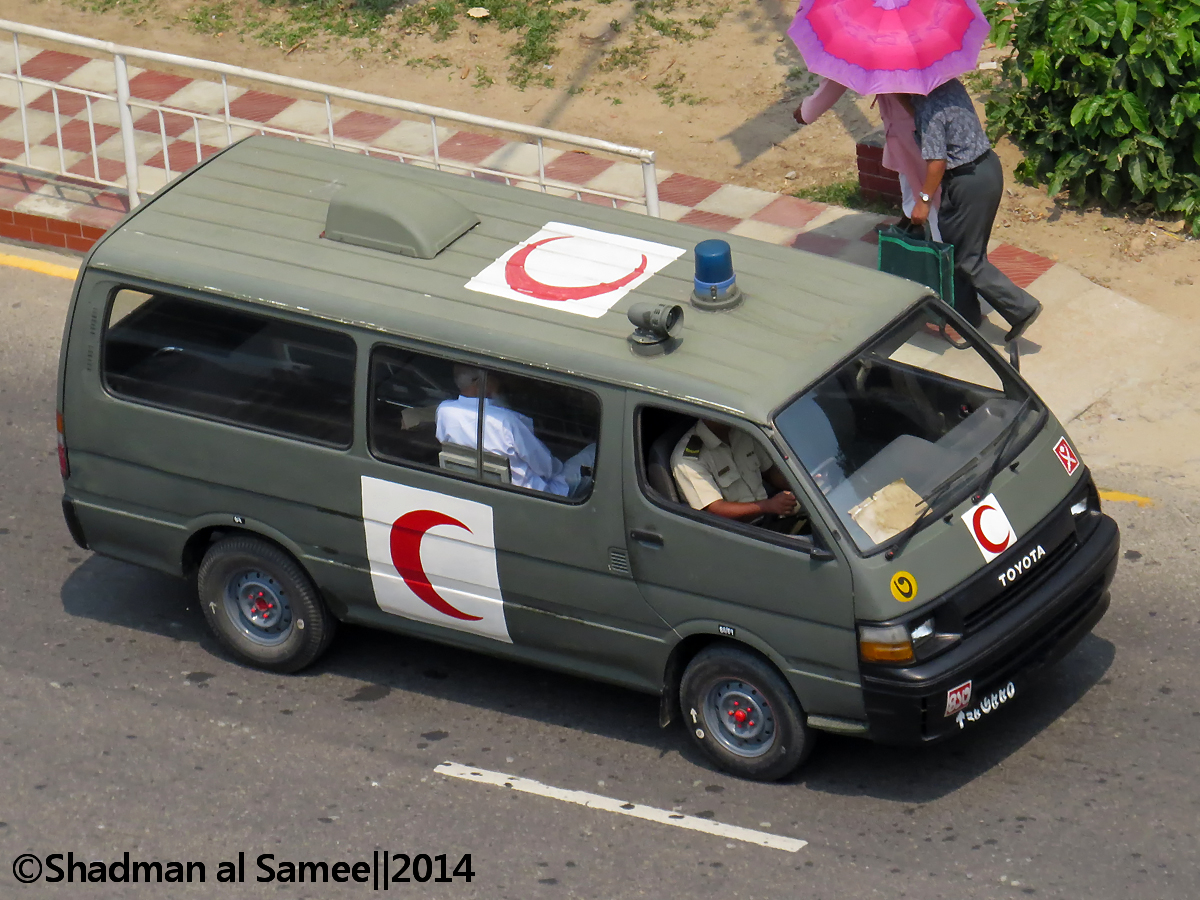Ambulance: (52, 130, 1128, 788)
